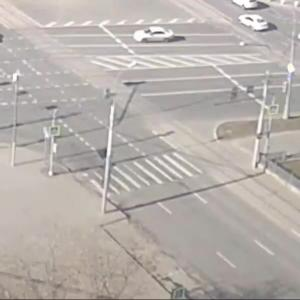car: (132, 28, 177, 44), (238, 15, 270, 33), (229, 1, 261, 11)
